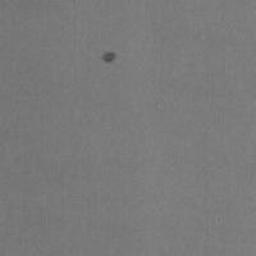Inclusion: (102, 52, 115, 64)
